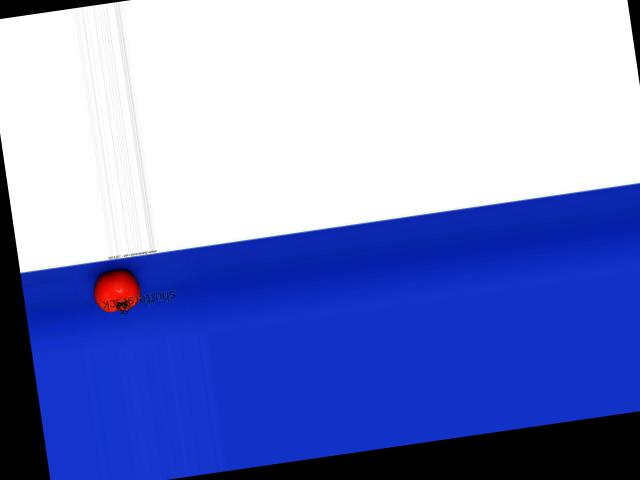tomato: (90, 267, 141, 314)
